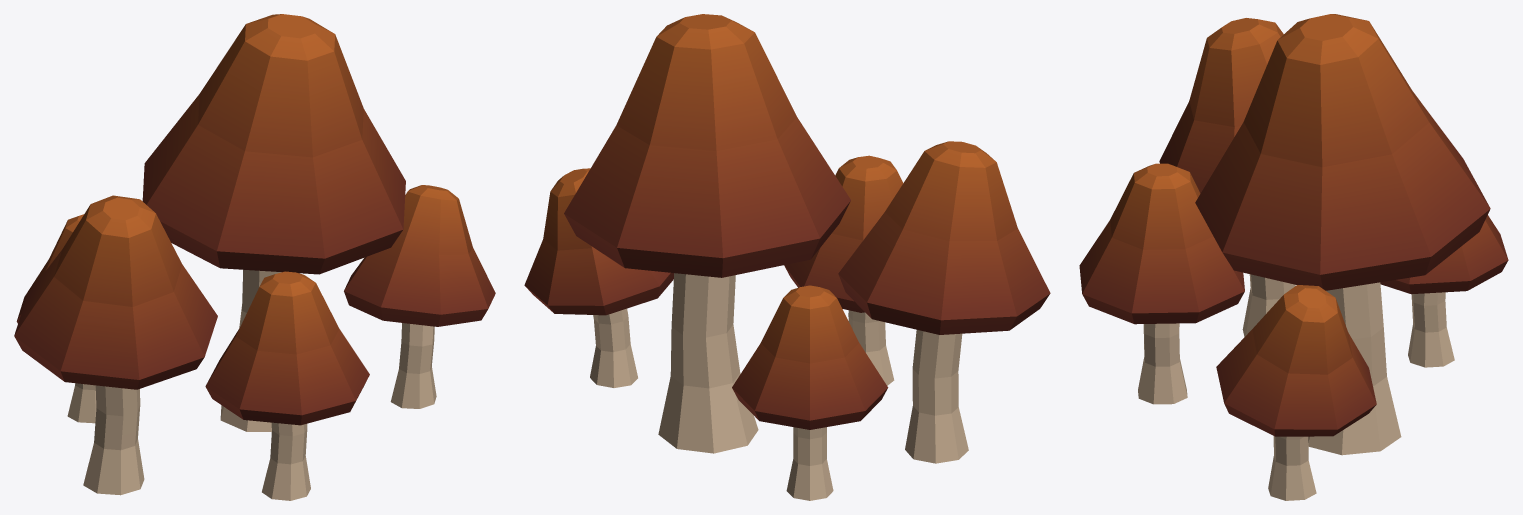
The model's file is Summer_Mushroom_03.glb.
The picture shows the model from 3 angles, left to right: view 1: azimuth 30°, elevation 25°; view 2: azimuth 150°, elevation 25°; view 3: azimuth 270°, elevation 25°; orthographic projection. The views are drawn at different scales.
Parts seen in each view (by area): view 1: Summer_Mushroom_03_LOD0; view 2: Summer_Mushroom_03_LOD0; view 3: Summer_Mushroom_03_LOD0.
Boxes of the visible parts, x1,y1,x2,y2 form: Summer_Mushroom_03_LOD0: [14, 14, 495, 500]; Summer_Mushroom_03_LOD0: [524, 14, 1050, 500]; Summer_Mushroom_03_LOD0: [1079, 14, 1508, 500].
Size of what is drawn, in the model's own units: 0.3749 by 0.2998 by 0.2799.
1 material, 1 textured.
